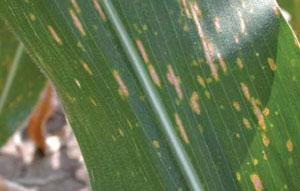Gray_Leaf_Spot: (232, 81, 270, 123), (135, 38, 164, 89), (178, 0, 210, 42), (202, 42, 229, 81), (232, 0, 255, 42), (66, 0, 89, 38), (166, 63, 184, 106), (172, 109, 191, 146), (242, 123, 270, 148), (44, 19, 65, 50), (110, 68, 130, 99), (191, 75, 204, 119), (261, 54, 282, 73), (264, 0, 283, 19), (92, 0, 107, 24), (79, 58, 96, 79), (212, 9, 225, 36), (248, 172, 266, 191), (148, 134, 163, 156), (133, 20, 150, 34), (290, 27, 300, 50), (283, 136, 295, 153), (234, 55, 246, 71), (113, 125, 127, 138), (232, 168, 243, 184), (85, 96, 100, 107), (27, 10, 39, 23), (203, 88, 214, 101), (72, 77, 81, 91), (261, 149, 270, 161), (250, 158, 259, 169)
